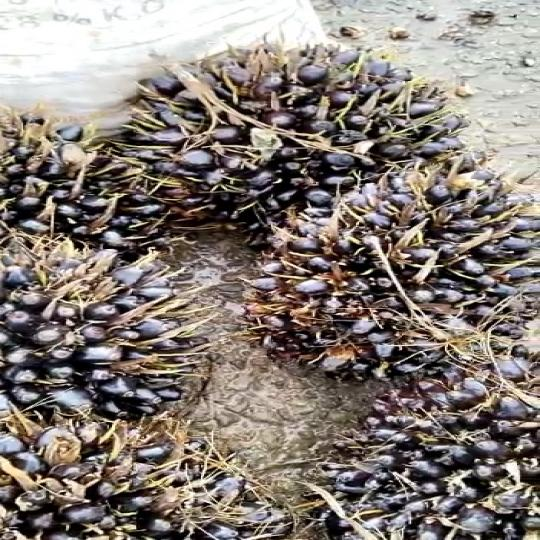mentah: (99, 28, 481, 248), (244, 164, 532, 391), (0, 233, 210, 437), (1, 404, 313, 540), (301, 373, 540, 539), (0, 110, 167, 263)
